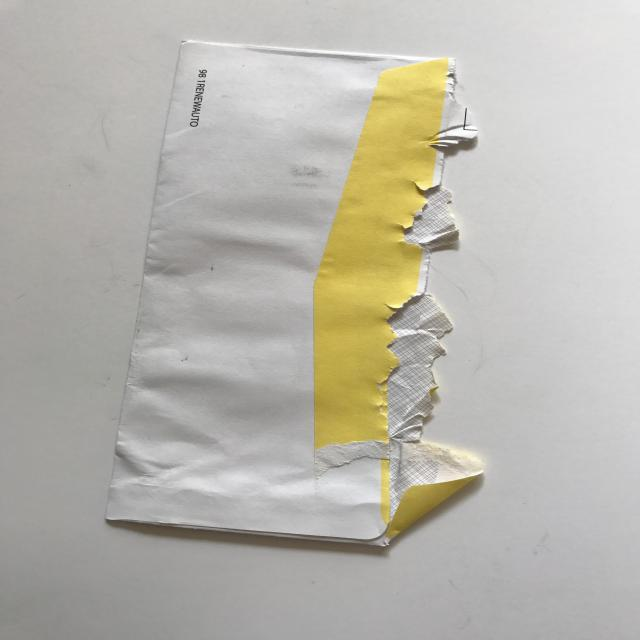paper: (101, 39, 492, 552)
